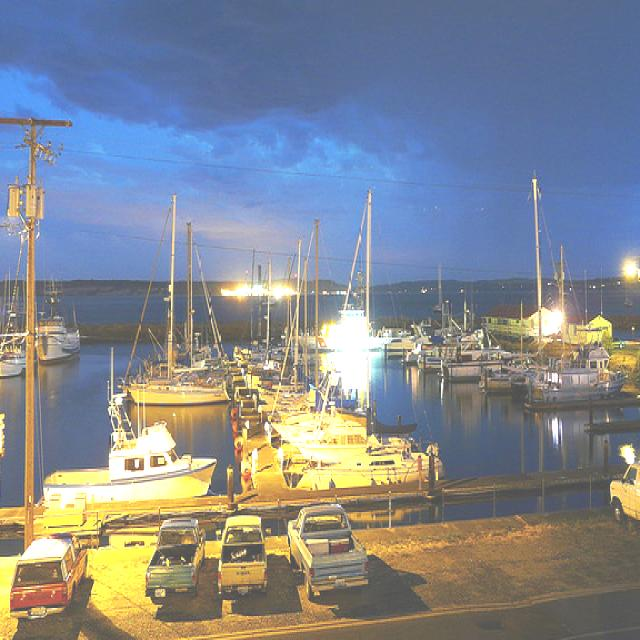Vehicle: (287, 505, 368, 599), (10, 532, 88, 620), (146, 518, 208, 604), (216, 514, 268, 596), (610, 464, 640, 528)
